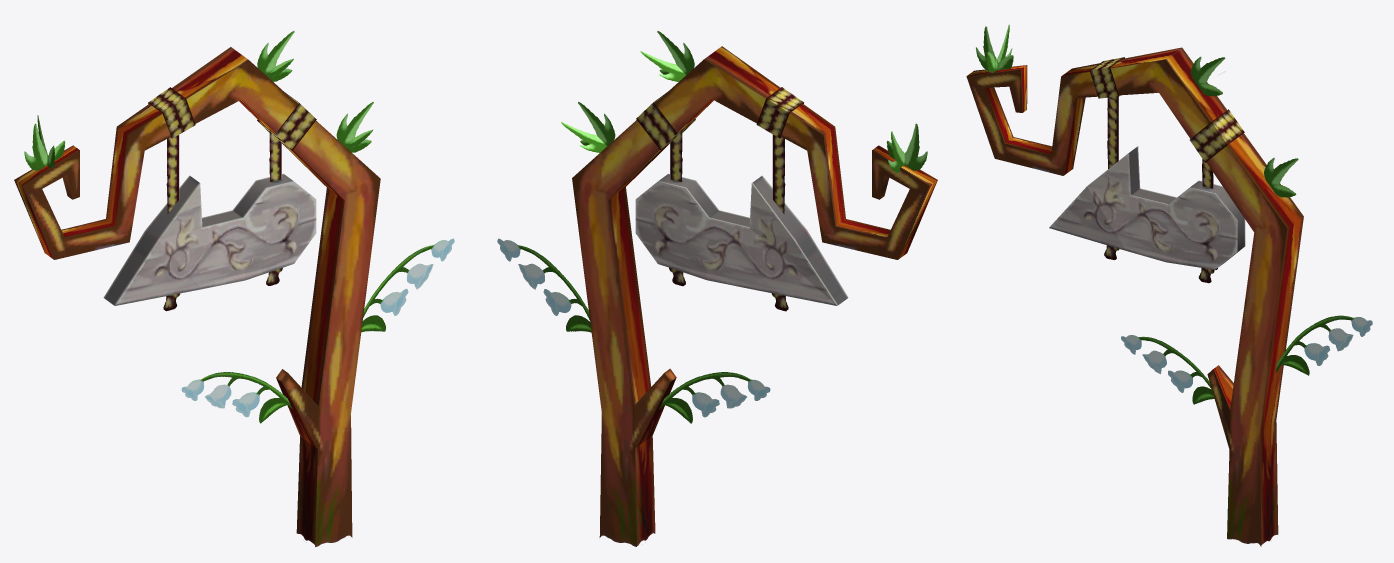
File: Gimmick_Kanban_101.fbx
3 views of the same model, side by side, from view 1: azimuth 30°, elevation 25°; view 2: azimuth 150°, elevation 25°; view 3: azimuth 330°, elevation 25° (orthographic). The views are drawn at different scales.
Visible parts, largest first — view 1: Gimmick_Kanban_101; view 2: Gimmick_Kanban_101; view 3: Gimmick_Kanban_101.
Part boxes in pixels (x1=…): Gimmick_Kanban_101: x1=14, y1=31, x2=454, y2=546; Gimmick_Kanban_101: x1=497, y1=31, x2=937, y2=546; Gimmick_Kanban_101: x1=966, y1=24, x2=1372, y2=546.
Bounding box in the file's own units: 1.81 × 2.07 × 0.2643.
Materials: 1 (1 with a texture image).
